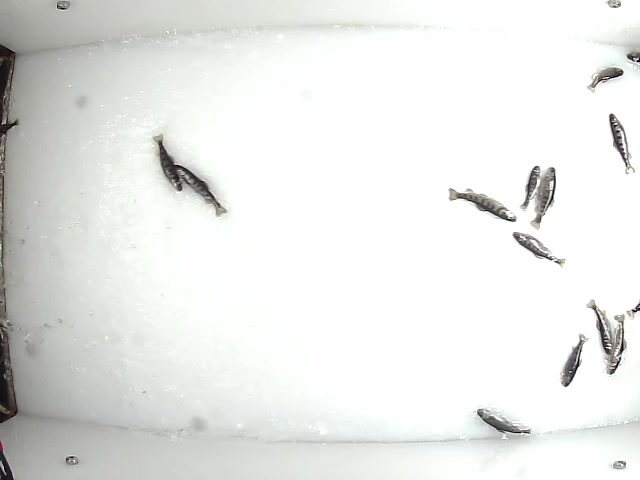fish: (173, 161, 228, 218), (445, 186, 517, 221), (510, 229, 569, 267), (152, 132, 185, 196), (606, 111, 638, 176), (528, 164, 557, 232), (558, 332, 589, 392), (586, 297, 617, 357), (477, 407, 533, 438), (604, 312, 630, 377), (518, 163, 541, 215), (584, 65, 624, 94)
